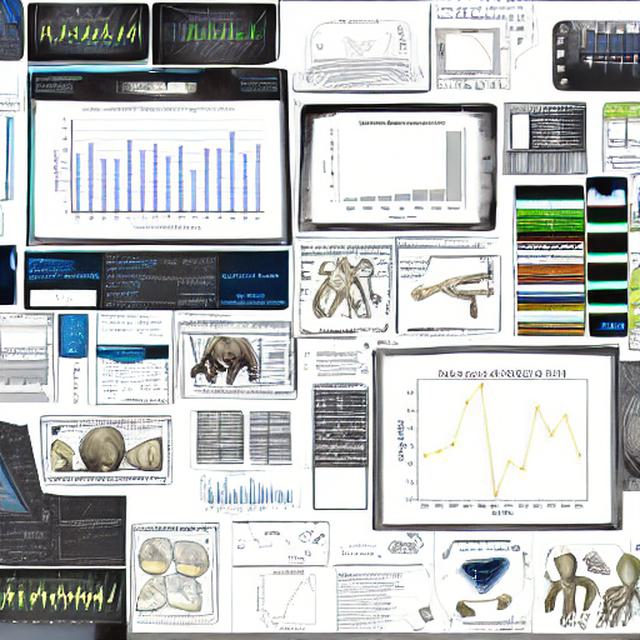Graph: (390, 357, 609, 521), (47, 102, 269, 237), (321, 119, 463, 220), (246, 567, 331, 631), (172, 11, 258, 65), (197, 468, 270, 519), (51, 522, 126, 566), (437, 28, 500, 75)
